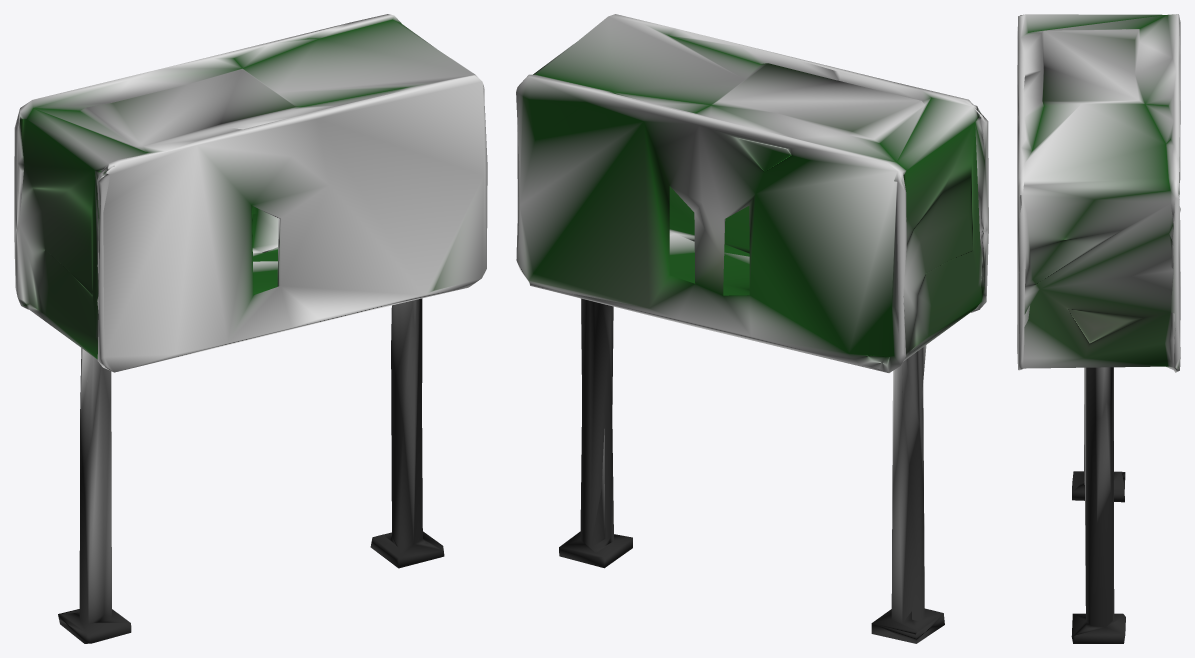
File: gen3d-highway-sign-lod1.glb
The picture shows the model from 3 angles, left to right: view 1: azimuth 30°, elevation 25°; view 2: azimuth 150°, elevation 25°; view 3: azimuth 270°, elevation 25°; orthographic projection. The views are drawn at different scales.
Parts seen in each view (by area): view 1: part_0; view 2: part_0; view 3: part_0.
Part boxes in pixels (x1,y1,x2,y2): part_0: [14, 14, 487, 643]; part_0: [516, 14, 988, 643]; part_0: [1017, 14, 1180, 643].
Bounding box in the file's own units: 0.8837 × 1.09 × 0.3453.
